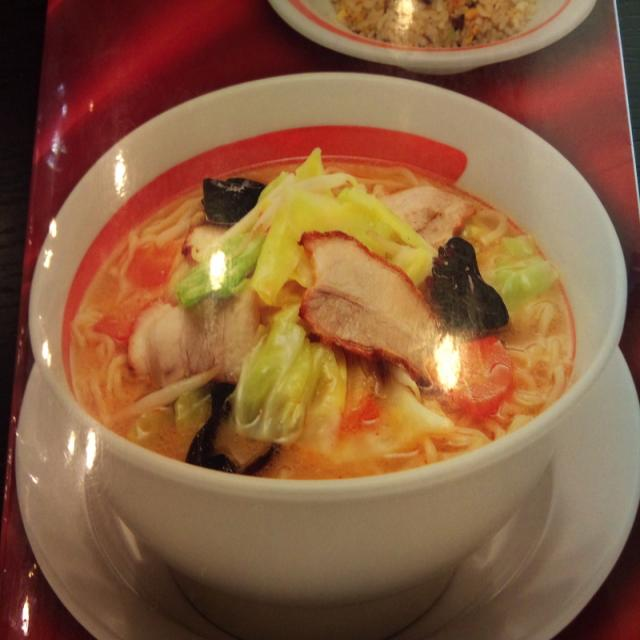面条主食: (65, 161, 569, 490)
